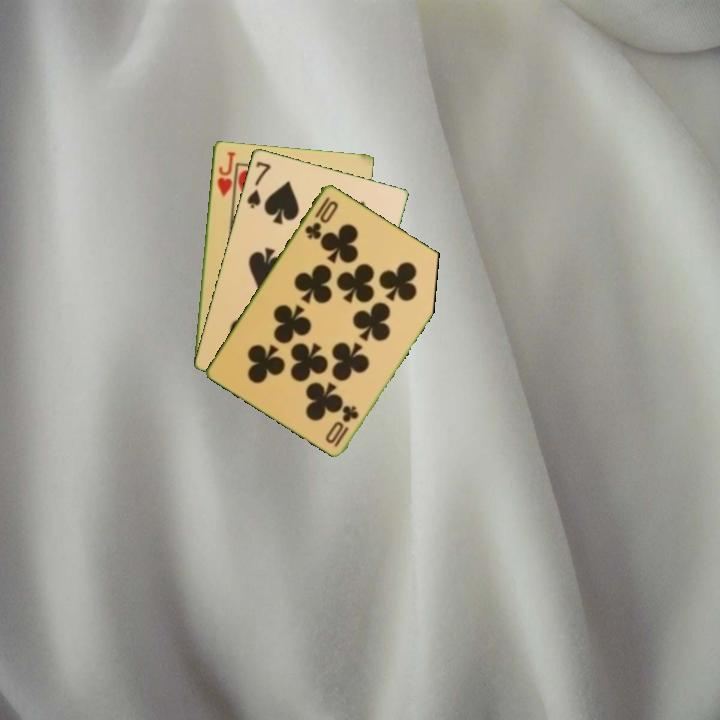10c: (301, 193, 341, 242), (330, 401, 362, 450)
7s: (243, 158, 273, 211)
Jh: (213, 148, 238, 199)
